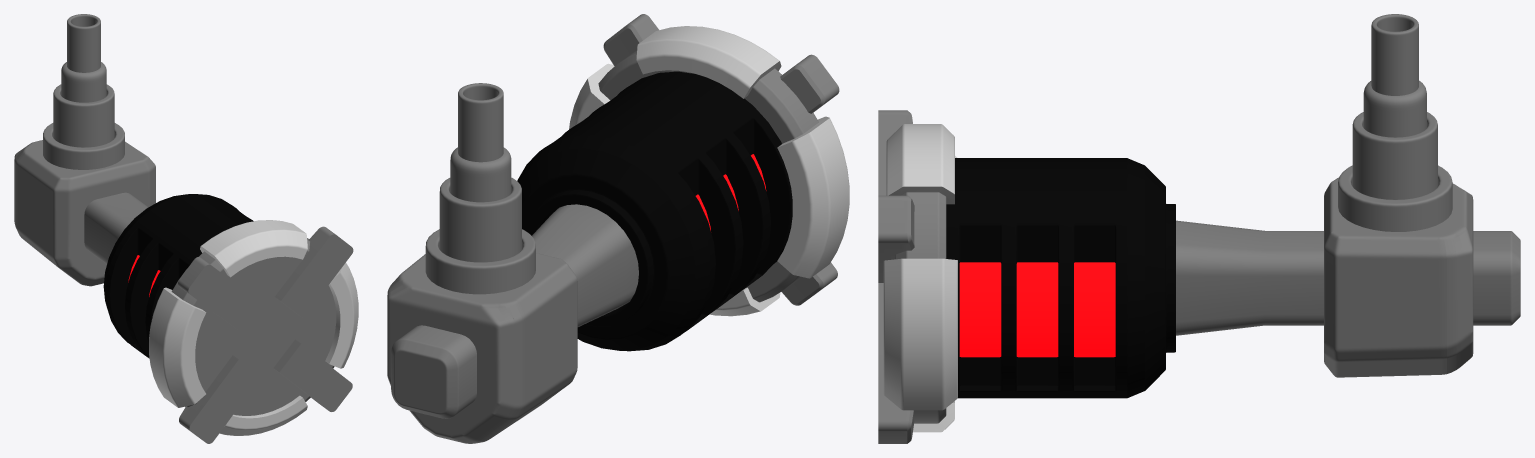
File: LaserShooter.fbx
The picture shows the model from 3 angles, left to right: view 1: azimuth 30°, elevation 25°; view 2: azimuth 150°, elevation 25°; view 3: azimuth 270°, elevation 25°; orthographic projection. The views are drawn at different scales.
Parts seen in each view (by area): view 1: Cylinder.002, Cylinder.005, Cube.004, Cylinder.008, Cylinder.004, Cube.007, Cube.011, Cylinder.006_Plate.001, Cube.012, Cube.008, Cube.003, Cylinder.006_Plate.002 (+2 smaller); view 2: Cylinder.005, Cube.004, Cube.003, Cylinder.008, Cylinder.004, Cylinder.006_Plate.001, Cylinder.002, Cylinder.006_Plate.002, Cylinder.006_Plate, Cylinder.006, Cube.012, Cube.007 (+1 smaller); view 3: Cylinder.005, Cube.004, Cube.003, Cylinder.007, Cylinder.008, Cylinder.006_Plate.001, Cylinder.004, Cylinder.006_Plate.002, Cylinder.006_Plate, Cylinder.002, Cylinder.006, Cube.007 (+2 smaller).
Part boxes in pixels (left/top/right/bottom): Cylinder.002: left=171, top=238, right=336, bottom=415; Cylinder.005: left=103, top=194, right=253, bottom=358; Cube.004: left=14, top=140, right=155, bottom=286; Cylinder.008: left=149, top=262, right=358, bottom=407; Cylinder.004: left=200, top=220, right=307, bottom=435; Cube.007: left=275, top=226, right=353, bottom=318; Cube.011: left=179, top=355, right=261, bottom=443; Cylinder.006_Plate.001: left=53, top=84, right=114, bottom=147; Cube.012: left=178, top=257, right=261, bottom=332; Cube.008: left=273, top=339, right=352, bottom=411; Cube.003: left=84, top=192, right=148, bottom=263; Cylinder.006_Plate.002: left=43, top=123, right=124, bottom=169; Cylinder.005: left=517, top=71, right=792, bottom=351; Cube.004: left=387, top=253, right=577, bottom=443; Cube.003: left=391, top=204, right=638, bottom=418; Cylinder.008: left=569, top=63, right=849, bottom=278; Cylinder.004: left=636, top=26, right=781, bottom=316; Cylinder.006_Plate.001: left=439, top=177, right=521, bottom=262; Cylinder.002: left=598, top=50, right=818, bottom=302; Cylinder.006_Plate.002: left=425, top=229, right=535, bottom=294; Cylinder.006_Plate: left=458, top=83, right=503, bottom=162; Cylinder.006: left=450, top=147, right=511, bottom=202; Cube.012: left=780, top=54, right=839, bottom=113; Cube.007: left=603, top=14, right=658, bottom=66; Cylinder.005: left=946, top=158, right=1175, bottom=398; Cube.004: left=1324, top=177, right=1473, bottom=377; Cube.003: left=1176, top=220, right=1520, bottom=335; Cylinder.007: left=959, top=262, right=1115, bottom=357; Cylinder.008: left=883, top=156, right=957, bottom=410; Cylinder.006_Plate.001: left=1352, top=112, right=1437, bottom=199; Cylinder.004: left=886, top=124, right=954, bottom=432; Cylinder.006_Plate.002: left=1338, top=165, right=1452, bottom=231; Cylinder.006_Plate: left=1371, top=14, right=1418, bottom=95; Cylinder.002: left=895, top=192, right=946, bottom=423; Cylinder.006: left=1363, top=80, right=1426, bottom=137; Cube.007: left=878, top=195, right=914, bottom=282.
Bounding box in the file's own units: 1249 × 1732 × 2555.
